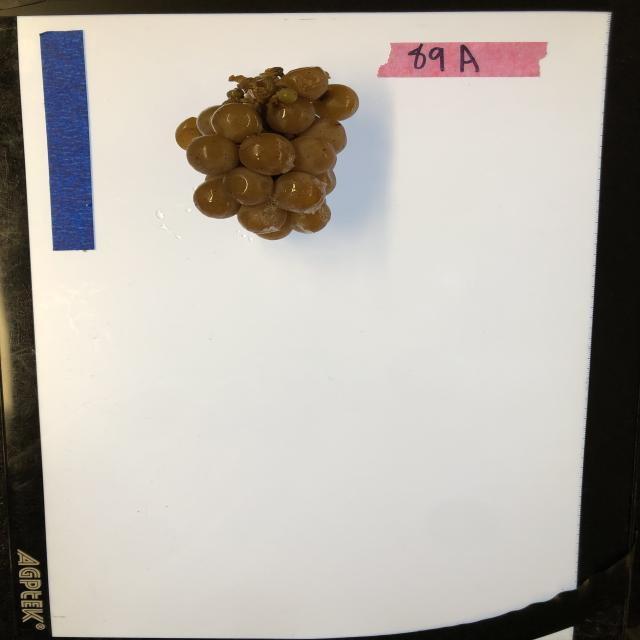grape_cluster: (171, 65, 361, 241)
index: (378, 40, 550, 79)
measure_label: (38, 28, 98, 252)
